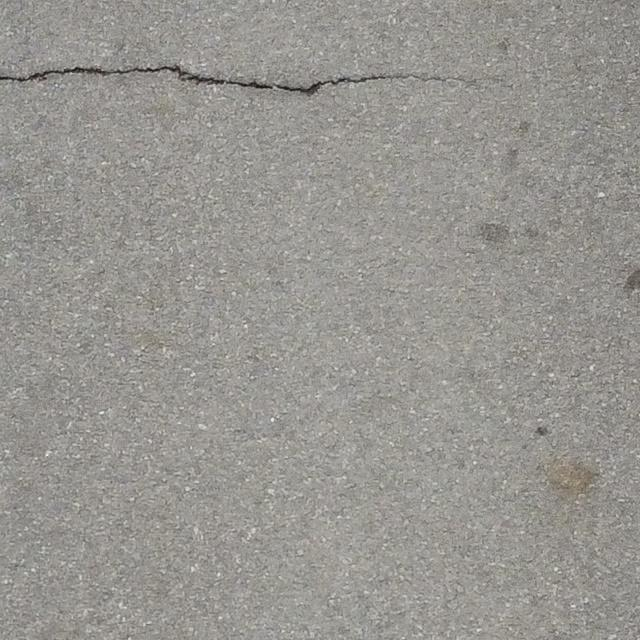TransverseCrack: (1, 64, 448, 97)
